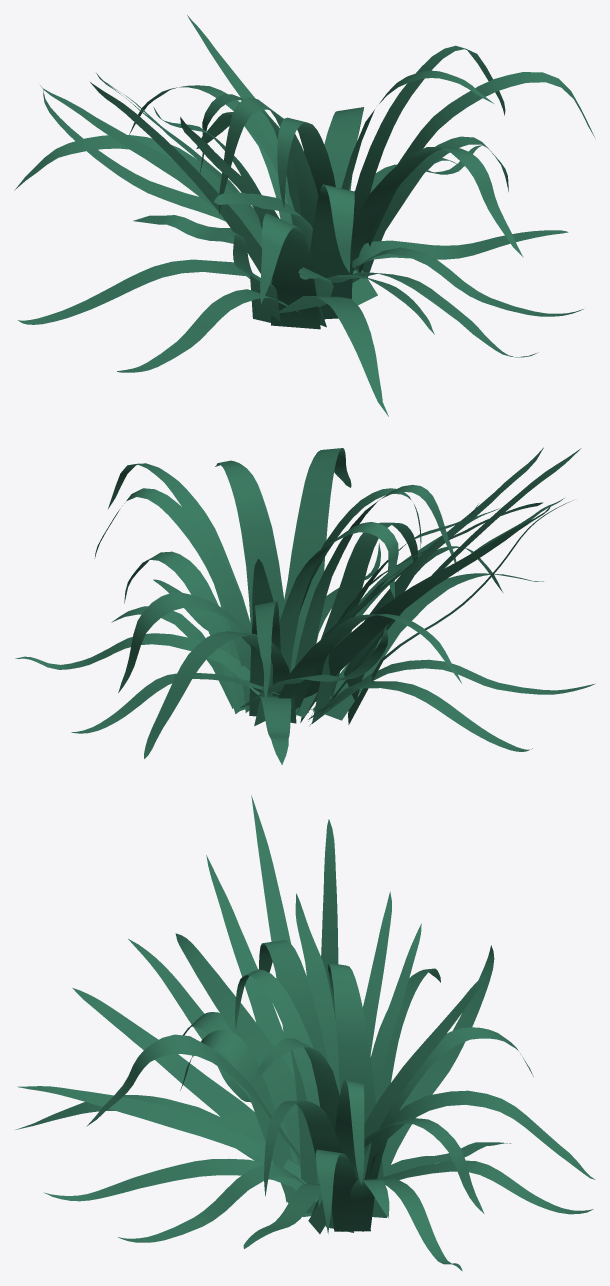
The model's file is plant_agave_A.fbx.
3 renders of one model, top to bottom at view 1: azimuth 30°, elevation 25°; view 2: azimuth 150°, elevation 25°; view 3: azimuth 270°, elevation 25°, orthographic. The views are drawn at different scales.
Visible parts, largest first — view 1: agave_A_leaf_top_M, agave_A_leaf_top_J, agave_A_leaf_top_D, agave_A_leaf_top_A, agave_A_leaf_bottom_F, agave_A_leaf_top_G, agave_A_leaf_top_B, agave_A_leaf_bottom_C, agave_A_leaf_top_E, agave_A_leaf_top_W, agave_A_leaf_top_Q, agave_A_leaf_bottom_K (+18 smaller); view 2: agave_A_leaf_top_D, agave_A_leaf_top_C, agave_A_leaf_top_A, agave_A_leaf_top_Q, agave_A_leaf_top_R, agave_A_leaf_top_F, agave_A_leaf_top_S, agave_A_leaf_top_G, agave_A_leaf_top_J, agave_A_leaf_top_B, agave_A_leaf_bottom_A, agave_A_leaf_top_P (+19 smaller); view 3: agave_A_leaf_top_K, agave_A_leaf_top_F, agave_A_leaf_top_G, agave_A_leaf_top_T, agave_A_leaf_top_V, agave_A_leaf_top_L, agave_A_leaf_top_J, agave_A_leaf_bottom_I, agave_A_leaf_top_R, agave_A_leaf_top_N, agave_A_leaf_top_E, agave_A_leaf_top_D (+22 smaller).
Boxes of the visible parts, box(x1,y1,x2,y2) form: agave_A_leaf_top_M: box(260, 213, 320, 329); agave_A_leaf_top_J: box(309, 184, 354, 319); agave_A_leaf_top_D: box(352, 147, 523, 273); agave_A_leaf_top_A: box(353, 45, 505, 272); agave_A_leaf_bottom_F: box(18, 259, 250, 324); agave_A_leaf_top_G: box(219, 97, 318, 228); agave_A_leaf_top_B: box(358, 72, 594, 272); agave_A_leaf_bottom_C: box(279, 295, 388, 416); agave_A_leaf_top_E: box(277, 117, 335, 208); agave_A_leaf_top_W: box(90, 82, 272, 284); agave_A_leaf_top_Q: box(40, 85, 262, 247); agave_A_leaf_bottom_K: box(352, 230, 568, 267); agave_A_leaf_top_D: box(284, 448, 351, 670); agave_A_leaf_top_C: box(215, 460, 291, 672); agave_A_leaf_top_A: box(94, 488, 251, 712); agave_A_leaf_top_Q: box(304, 506, 550, 698); agave_A_leaf_top_R: box(144, 631, 296, 758); agave_A_leaf_top_F: box(254, 522, 398, 726); agave_A_leaf_top_S: box(278, 614, 461, 708); agave_A_leaf_top_G: box(295, 484, 458, 666); agave_A_leaf_top_J: box(316, 522, 417, 701); agave_A_leaf_top_B: box(108, 463, 250, 710); agave_A_leaf_bottom_A: box(124, 551, 239, 713); agave_A_leaf_top_P: box(249, 601, 280, 716); agave_A_leaf_top_K: box(175, 933, 300, 1168); agave_A_leaf_top_F: box(327, 962, 386, 1217); agave_A_leaf_top_G: box(258, 940, 328, 1213); agave_A_leaf_top_T: box(72, 988, 296, 1190); agave_A_leaf_top_V: box(17, 1086, 300, 1178); agave_A_leaf_top_L: box(206, 855, 311, 1216); agave_A_leaf_top_J: box(180, 1030, 295, 1203); agave_A_leaf_bottom_I: box(44, 1158, 318, 1203); agave_A_leaf_top_R: box(367, 1090, 595, 1179); agave_A_leaf_top_N: box(308, 972, 487, 1233); agave_A_leaf_top_E: box(235, 969, 322, 1206); agave_A_leaf_top_D: box(86, 1034, 316, 1183).
Size of the model in its own units: 198 by 121 by 208.
